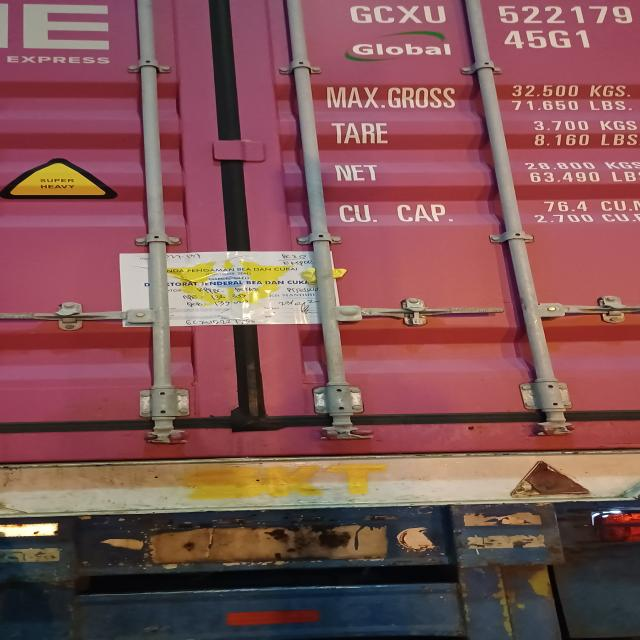seal: (402, 302, 429, 326)
